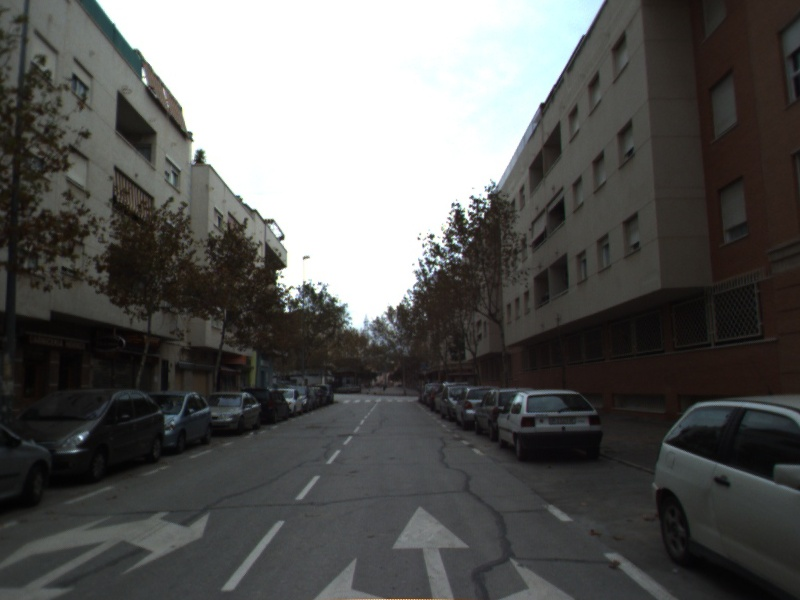STRAIGHT_LEFT_RIGHT: (308, 502, 580, 600)
